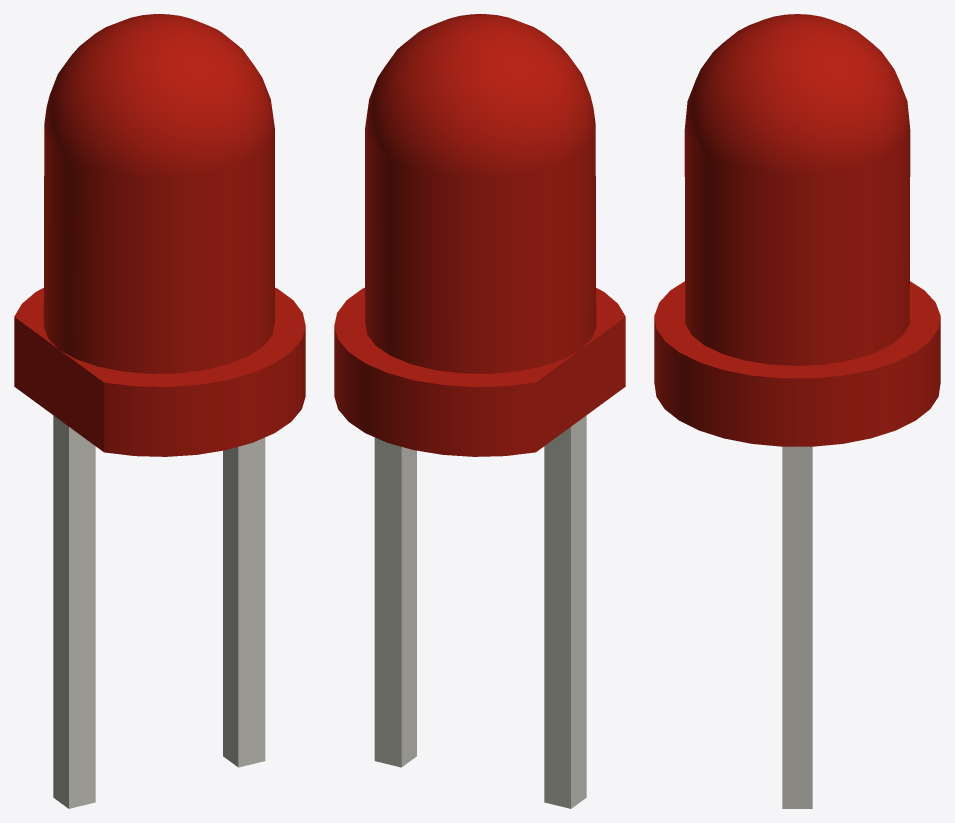
File: LED_D3.fbx
3 renders of one model, left to right at view 1: azimuth 30°, elevation 25°; view 2: azimuth 150°, elevation 25°; view 3: azimuth 270°, elevation 25°, orthographic. The views are drawn at different scales.
Visible parts, largest first — view 1: 59EB9B8B3B781A06716B749F7CF192A78877B2DB|:|B8A4396250C5687B1; view 2: 59EB9B8B3B781A06716B749F7CF192A78877B2DB|:|B8A4396250C5687B1; view 3: 59EB9B8B3B781A06716B749F7CF192A78877B2DB|:|B8A4396250C5687B1.
Boxes of the visible parts, box(x1,y1,x2,y2) form: 59EB9B8B3B781A06716B749F7CF192A78877B2DB|:|B8A4396250C5687B1: box(14, 14, 305, 808); 59EB9B8B3B781A06716B749F7CF192A78877B2DB|:|B8A4396250C5687B1: box(334, 14, 625, 808); 59EB9B8B3B781A06716B749F7CF192A78877B2DB|:|B8A4396250C5687B1: box(654, 14, 940, 808).
Bounding box in the file's own units: 0.1334 × 0.4252 × 0.1494.
